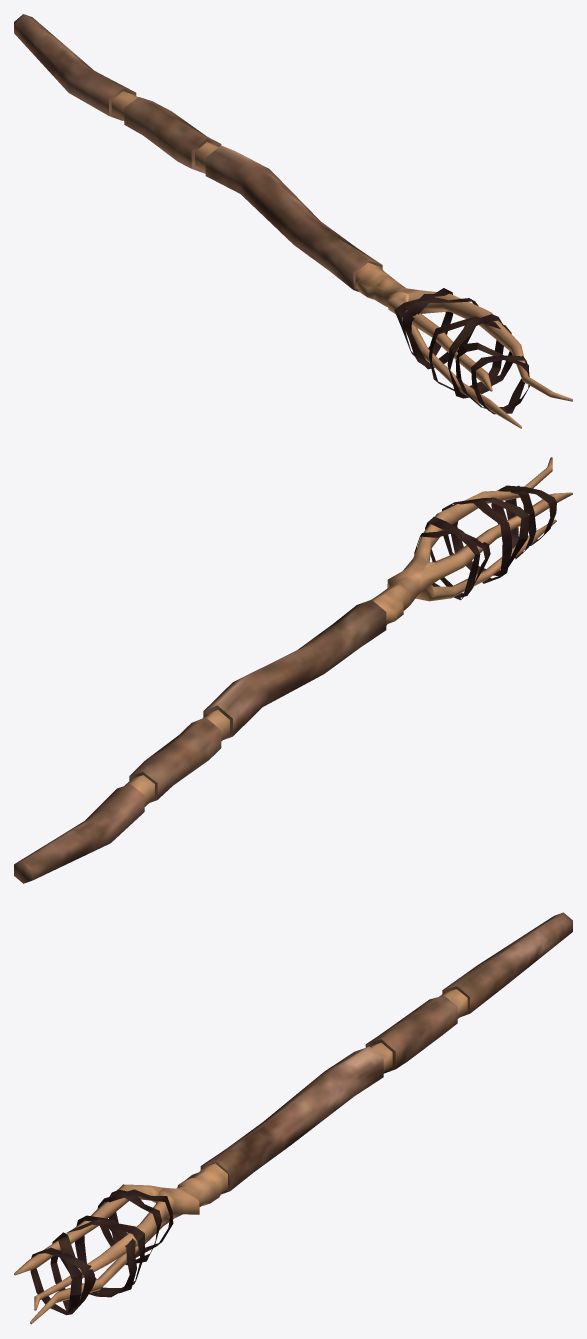
Rendered from StaffBase02-1.fbx.
3 views of the same model, one above another, from view 1: azimuth 30°, elevation 25°; view 2: azimuth 150°, elevation 25°; view 3: azimuth 330°, elevation 25° (orthographic).
Parts seen in each view (by area): view 1: attach; view 2: attach; view 3: attach.
Boxes of the visible parts, x1,y1,x2,y2 form: attach: (14, 14, 572, 428); attach: (14, 457, 572, 883); attach: (14, 912, 572, 1324).
Size of the model in its own units: 15.41 by 15.65 by 203.
